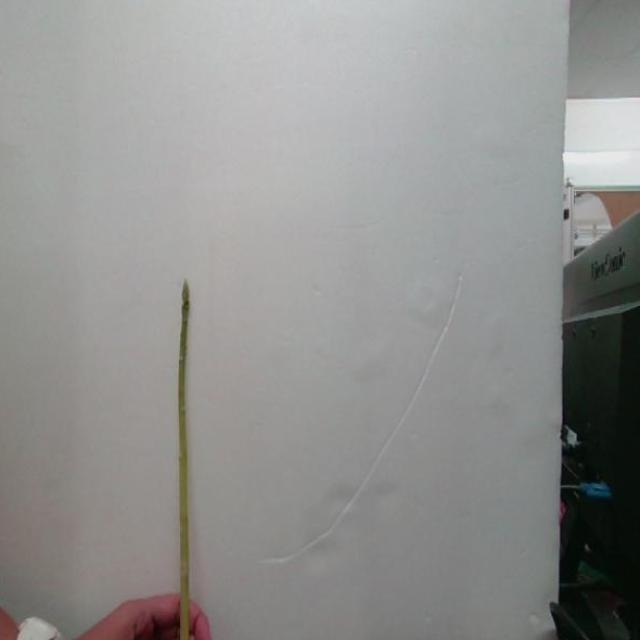aspargus: (176, 281, 211, 640)
